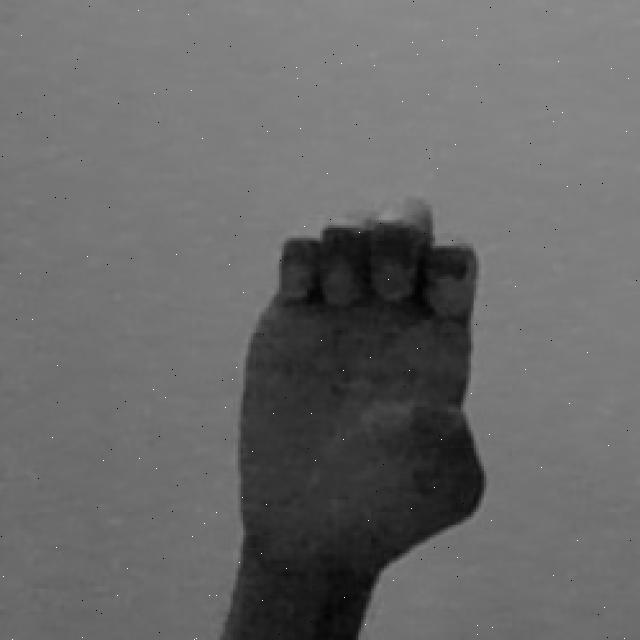E: (220, 199, 487, 637)
